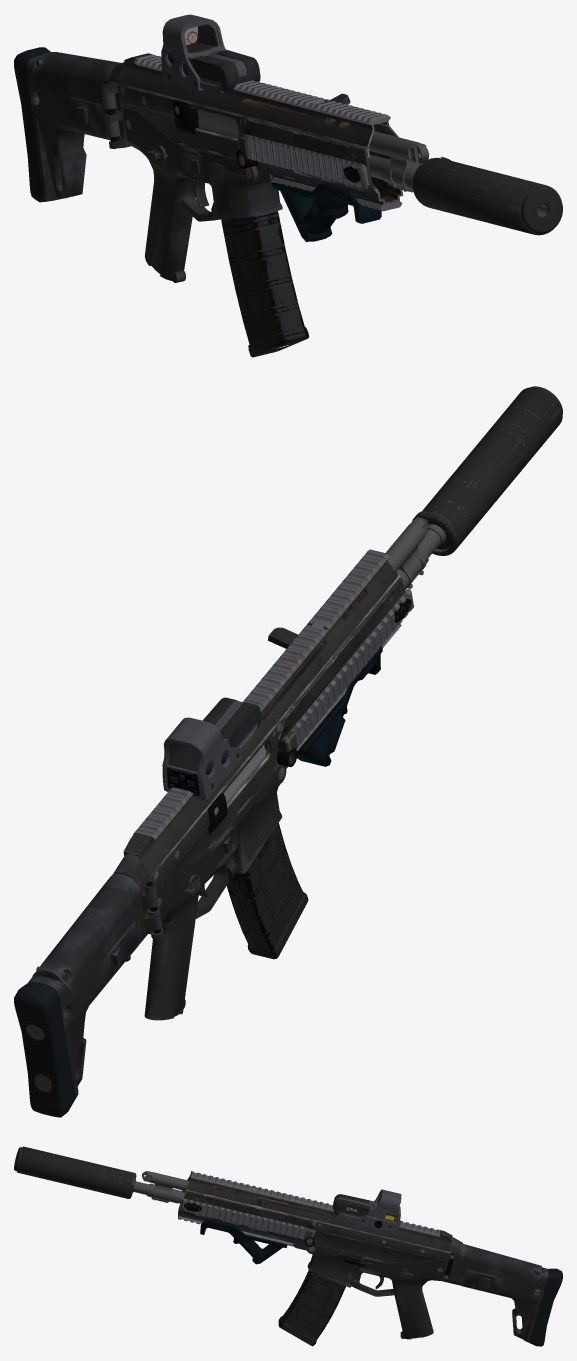
File: adaptiveCombatRifleAttack.glb
The picture shows the model from 3 angles, top to bottom: view 1: azimuth 30°, elevation 25°; view 2: azimuth 150°, elevation 25°; view 3: azimuth 270°, elevation 25°; orthographic projection. The views are drawn at different scales.
Visible parts, largest first — view 1: ACRRifle001, Pmag, Suppresor, Scope, Foregrip; view 2: ACRRifle001, Suppresor, Scope, Pmag, Foregrip; view 3: ACRRifle001, Suppresor, Pmag, Scope, Foregrip.
Boxes of the visible parts, bbox=[...] form: ACRRifle001: bbox=[14, 47, 429, 282]; Pmag: bbox=[221, 211, 309, 357]; Suppresor: bbox=[412, 156, 562, 235]; Scope: bbox=[161, 14, 260, 93]; Foregrip: bbox=[271, 182, 381, 241]; ACRRifle001: bbox=[14, 517, 445, 1117]; Suppresor: bbox=[412, 386, 562, 555]; Scope: bbox=[162, 697, 261, 800]; Pmag: bbox=[226, 823, 308, 959]; Foregrip: bbox=[297, 646, 382, 766]; ACRRifle001: bbox=[133, 1171, 562, 1346]; Suppresor: bbox=[14, 1146, 136, 1198]; Pmag: bbox=[278, 1270, 345, 1346]; Scope: bbox=[333, 1189, 401, 1232]; Foregrip: bbox=[200, 1219, 287, 1264].
Bounding box in the file's own units: 0.0716 × 0.3903 × 0.9917.
Materials: 5 (5 with a texture image).
